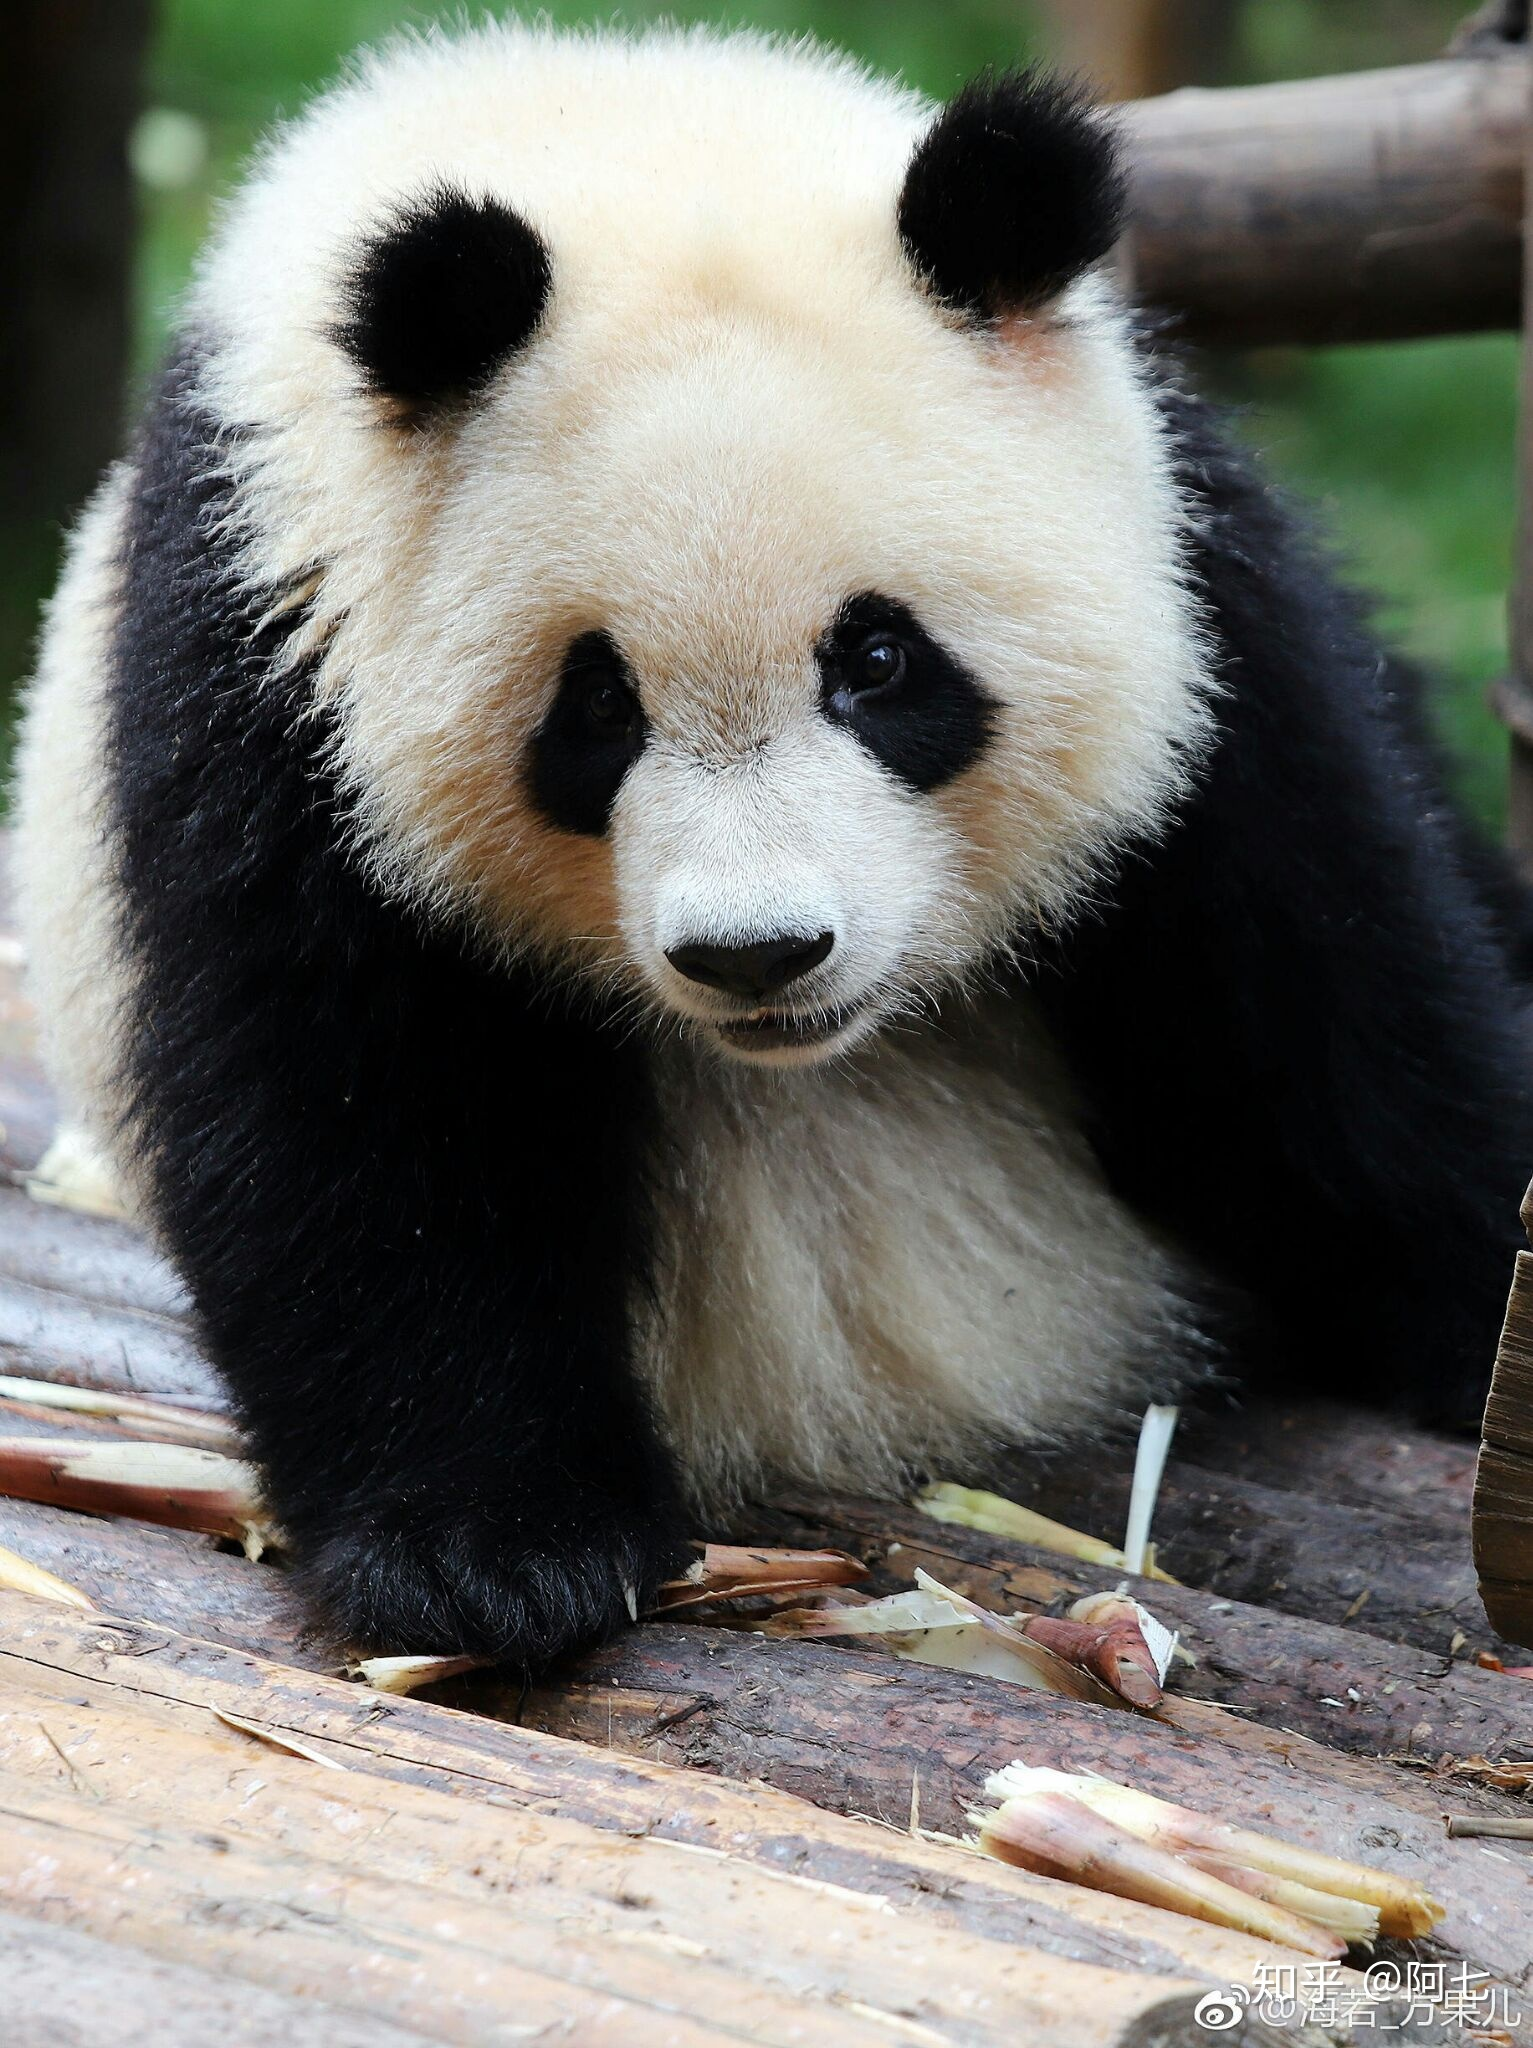panda: (52, 18, 1502, 1789)
